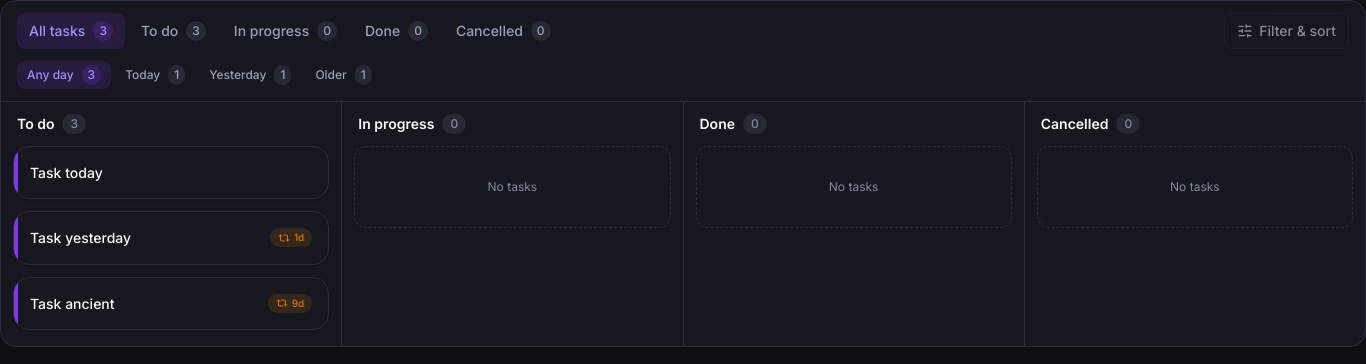
Test case: KanbanBoard age filter › shows only tasks created today when Today is chosen
Click the tab with aria-label "Today, 1 task" at coordinates (155, 75), box [115,61,195,89]
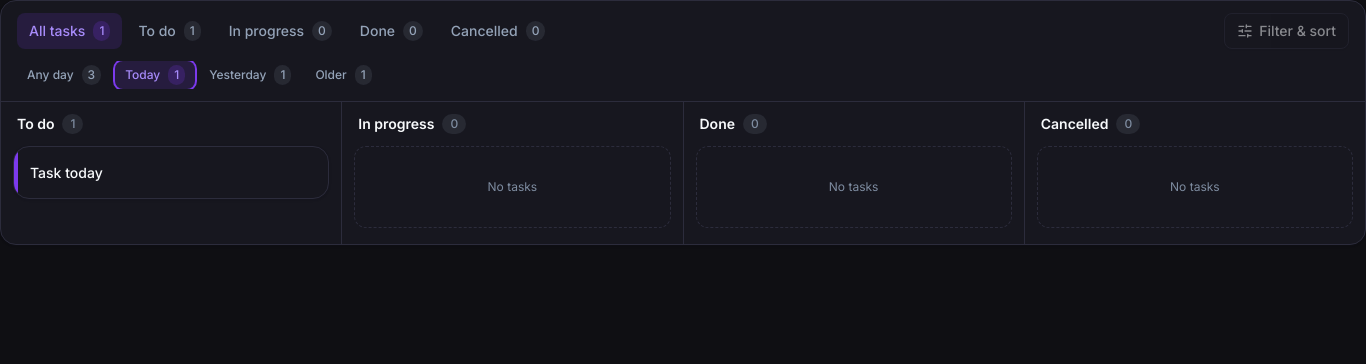
Expected: the heading "Task today" is shown, [30,163,103,182]
Expected: the button "Task yesterday" is gone
Expected: the button "Task ancient" is gone
